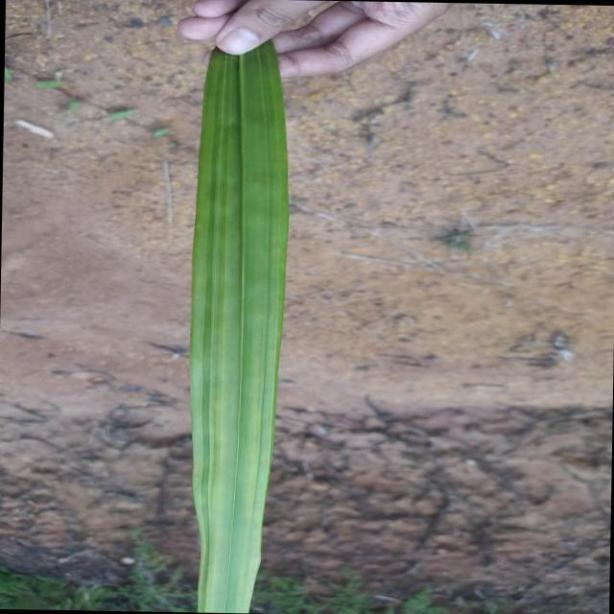nitrogen: (192, 38, 289, 614)
